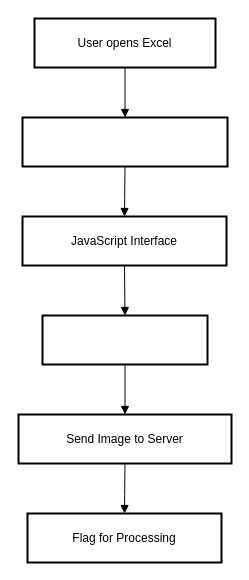
This 249x580 diagram has some shape labels left out. Each missing label, with the box of its shape:
Capture Image: (41, 314, 208, 365)
Excel Add-in Loaded: (21, 116, 228, 167)
